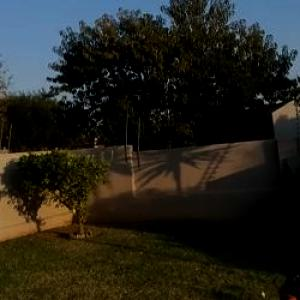follow: (277, 144, 300, 299)
